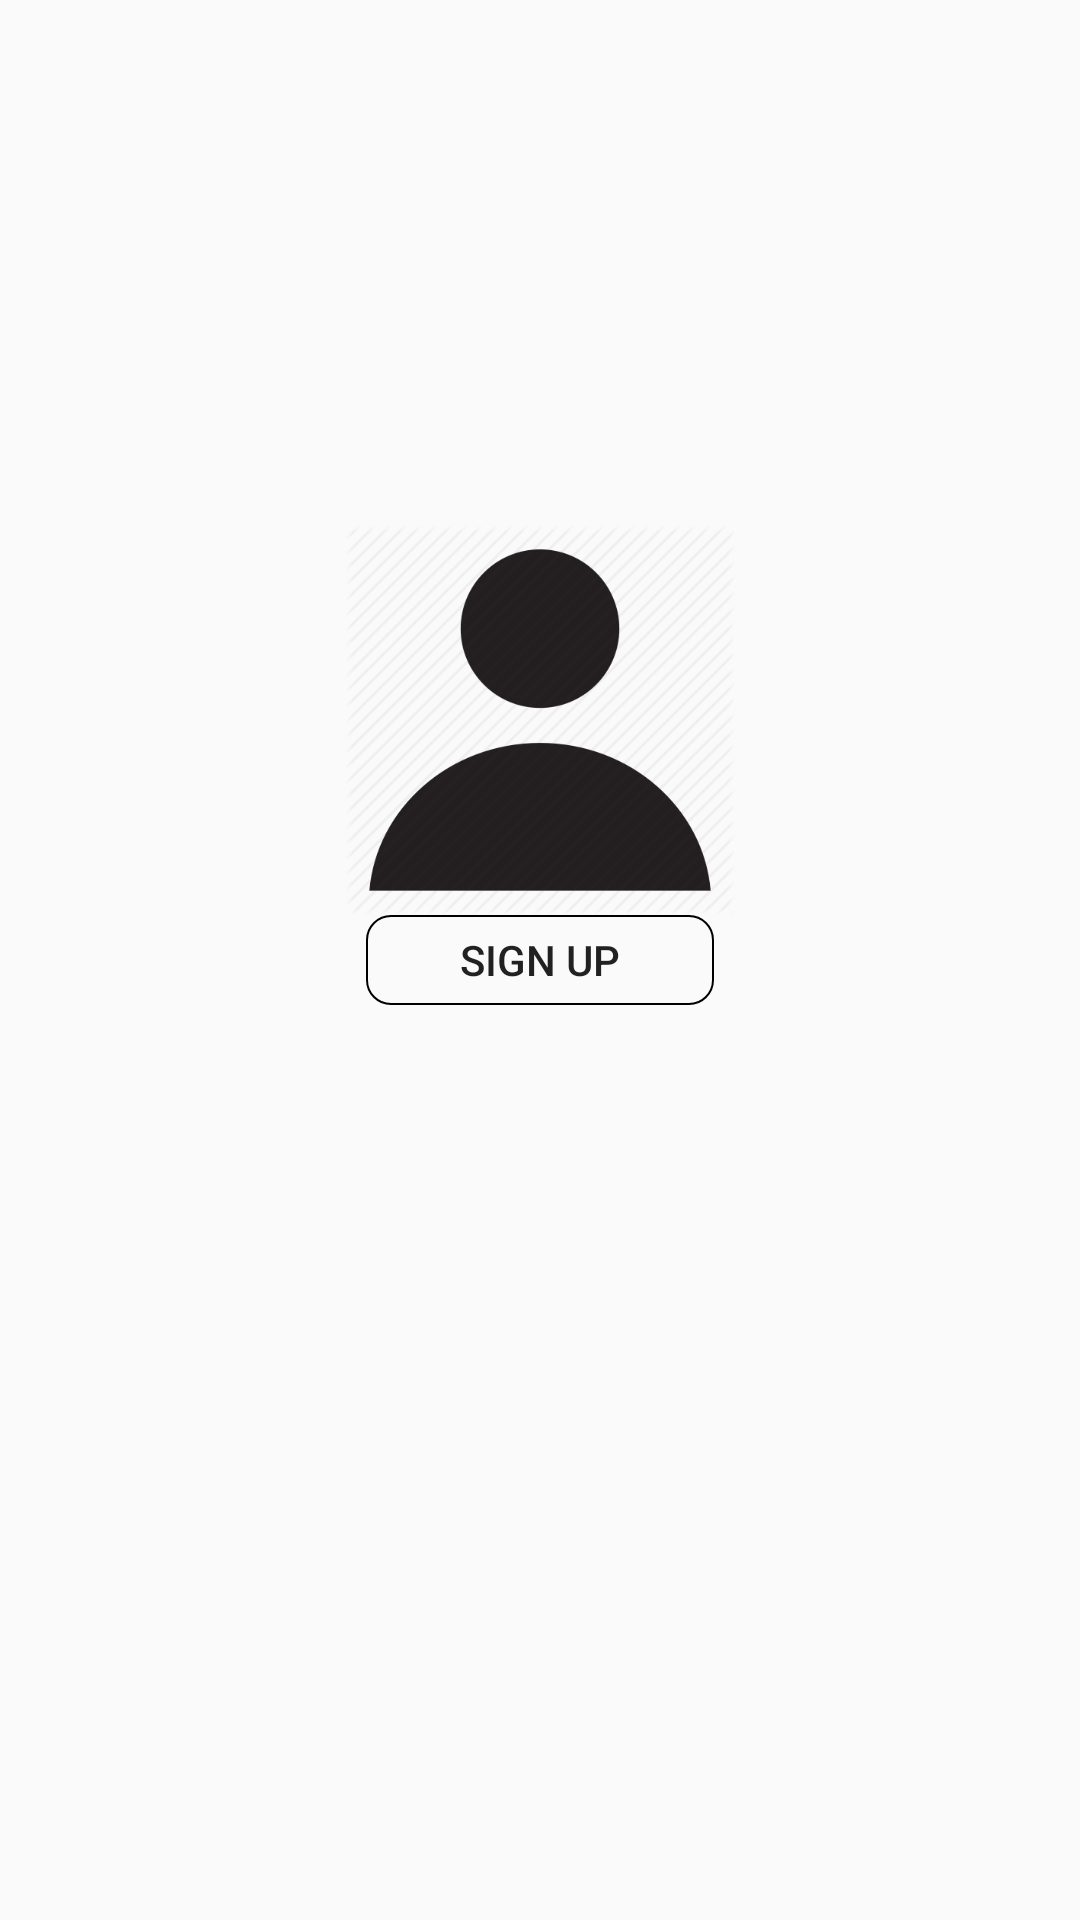

Named icons in this screenshot (1080px x 1920px) and their centers, point (x, y):
person: point (540, 720)
